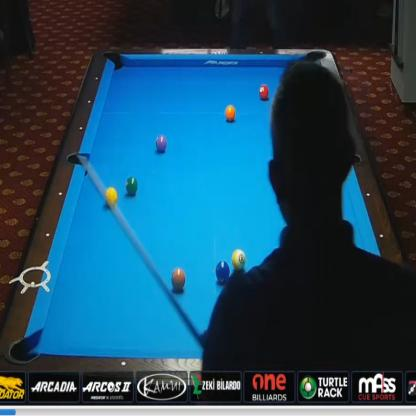Ball: (215, 261, 230, 283), (231, 249, 246, 270), (171, 268, 185, 290), (105, 186, 118, 206), (155, 134, 167, 153), (126, 176, 138, 195), (225, 105, 236, 122), (259, 84, 269, 100)
